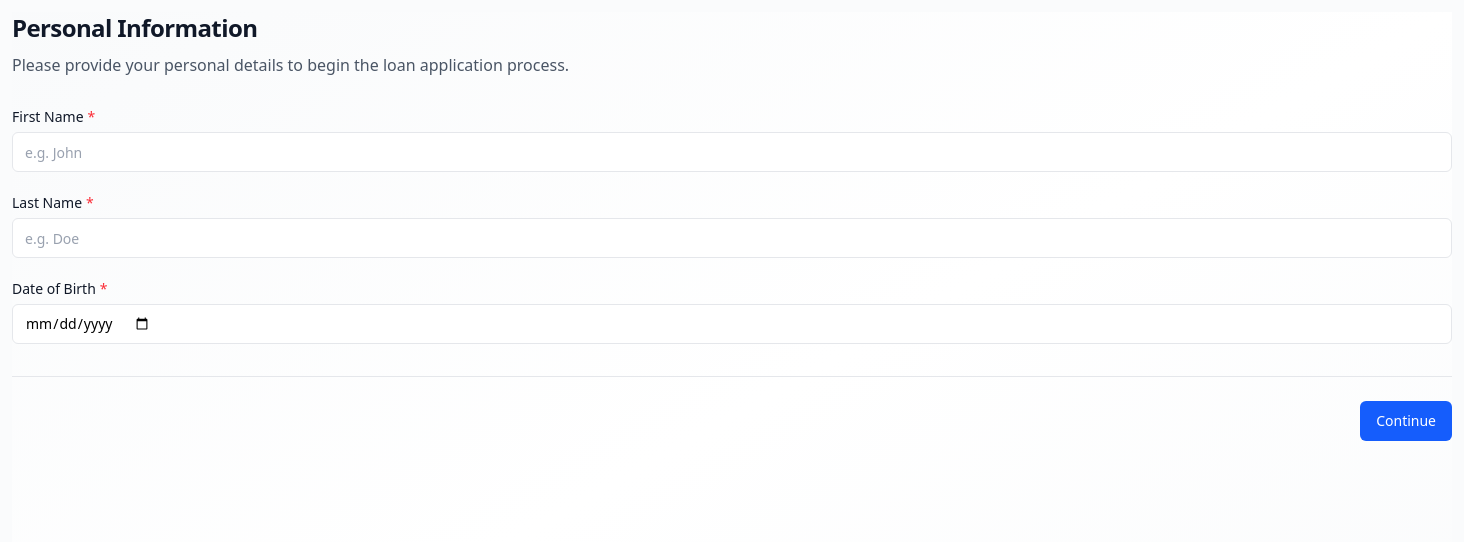
PersonalInformationStep › shows validation errors when required fields are empty
The image size is (1464, 542).
Click the button "Continue" at (1406,421), box [1360, 401, 1452, 441]
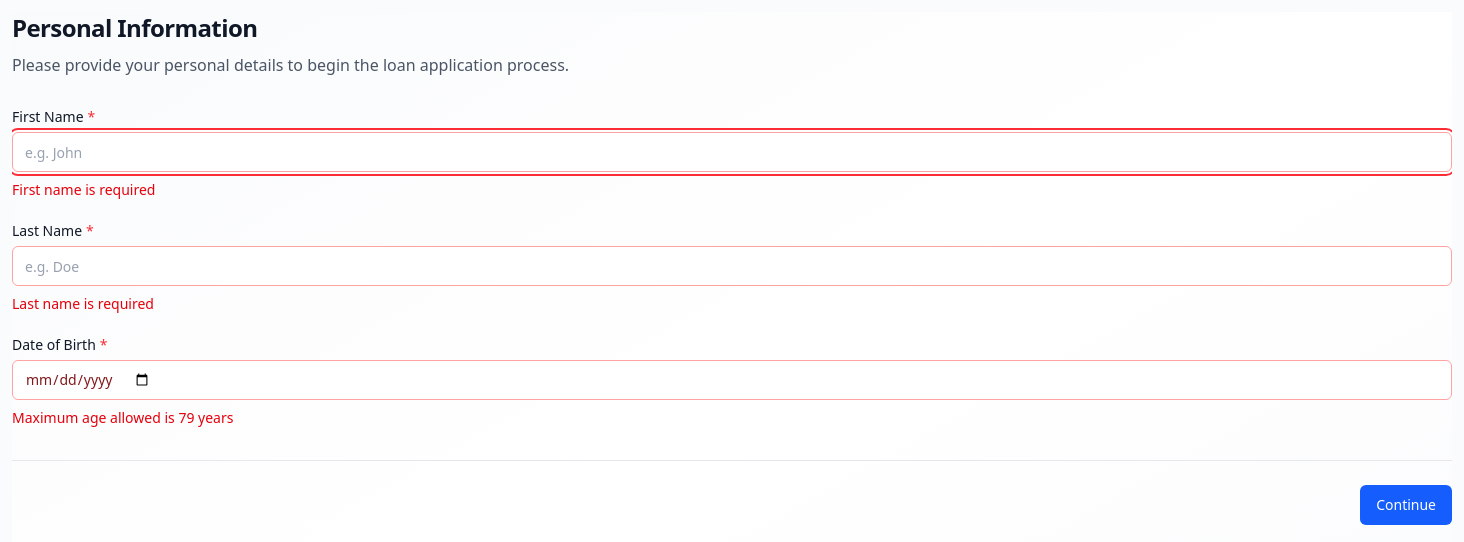
Expected: the text "First name is required" is shown, [12, 180, 155, 199]
Expected: the text "Last name is required" is shown, [12, 294, 154, 313]
Expected: the text "Maximum age allowed is 79 years" is shown, [12, 408, 234, 427]
